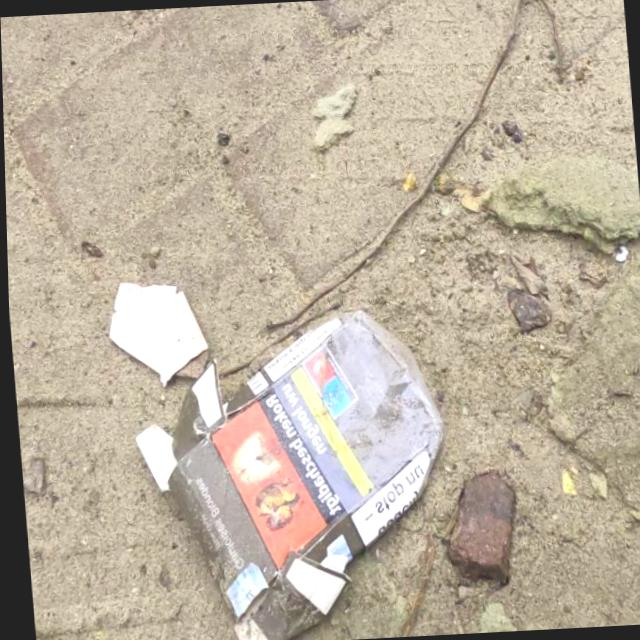Paper: (120, 298, 460, 640)
